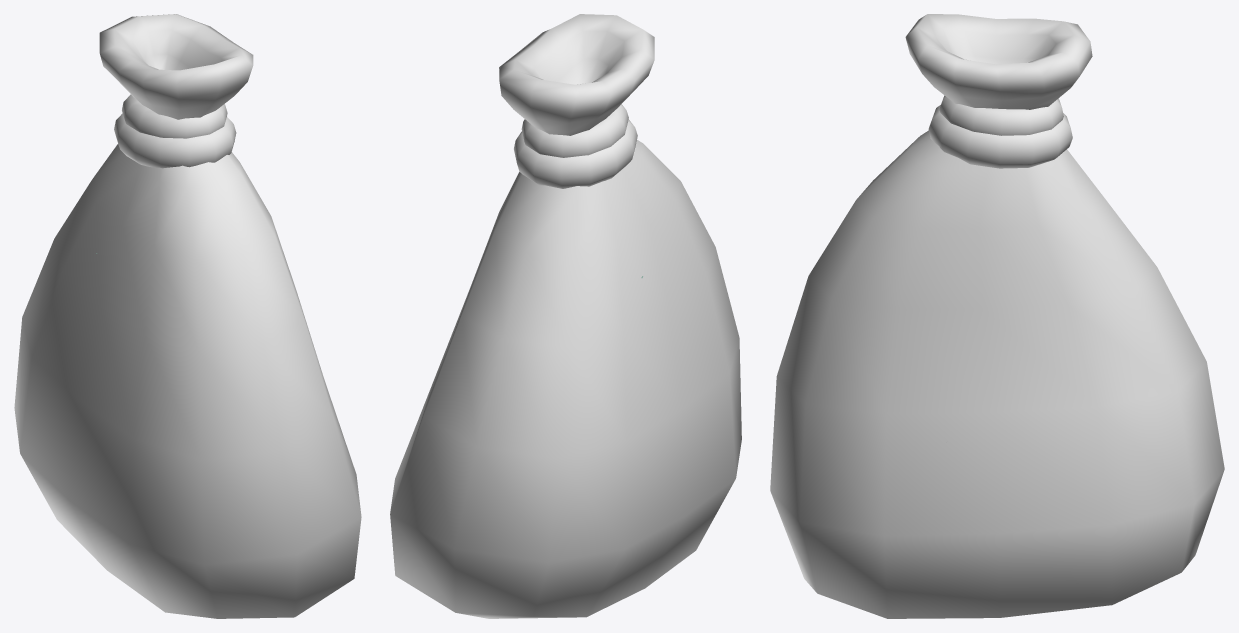
File: MedSack.fbx
3 views of the same model, side by side, from view 1: azimuth 30°, elevation 25°; view 2: azimuth 150°, elevation 25°; view 3: azimuth 270°, elevation 25° (orthographic). The views are drawn at different scales.
Visible parts, largest first — view 1: Curve.002; view 2: Curve.002; view 3: Curve.002.
Part boxes in pixels (box(x1,y1,x2,y2)): Curve.002: box(14, 14, 361, 618); Curve.002: box(390, 14, 741, 618); Curve.002: box(770, 14, 1224, 618).
Bounding box in the file's own units: 110 × 242 × 176.
2 materials, 1 textured.
